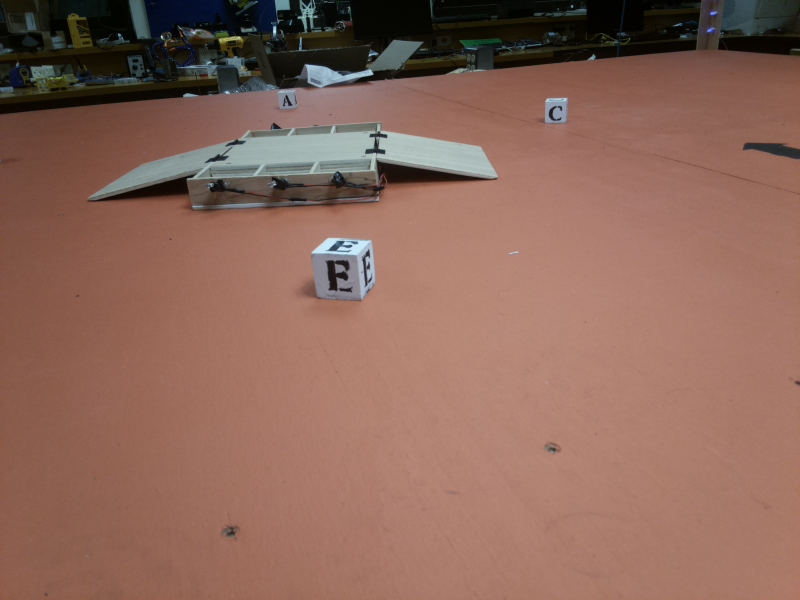blockA: (277, 88, 298, 110)
blockC: (542, 96, 571, 125)
blockE: (312, 235, 373, 304)
corner: (697, 3, 723, 53)
side: (183, 174, 382, 207), (237, 120, 383, 132)
slope: (88, 140, 231, 196), (372, 129, 497, 182)
start: (741, 139, 800, 173)
